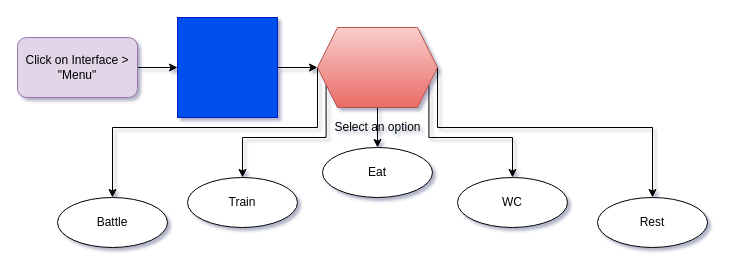
Some shapes in this 731 by 271 pixel diagram are drawn without their labels. Here are the shapes that lost their labels. From the top down, the centre of each, then its label:
At point (227, 67): "Opens Up List With: Battle, Train, Eat, WC, Rest,".
At point (377, 67): "Zoom into dim background image".
